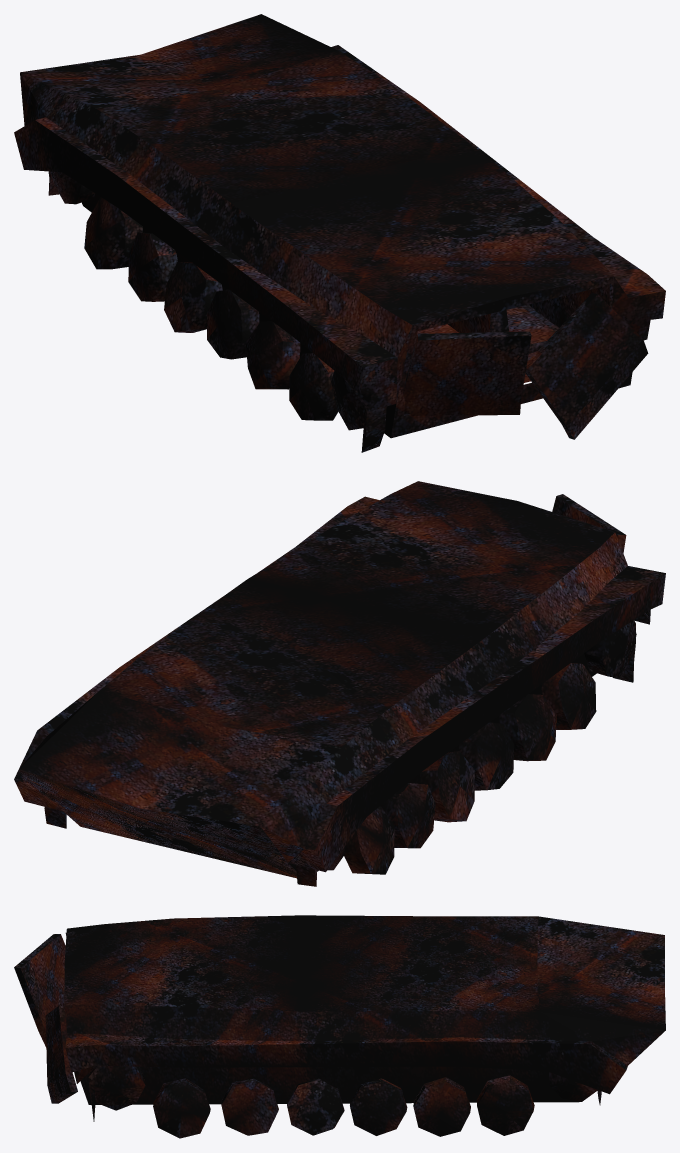
Rendered from Bmp2Wreck.glb.
The picture shows the model from 3 angles, top to bottom: view 1: azimuth 30°, elevation 25°; view 2: azimuth 150°, elevation 25°; view 3: azimuth 270°, elevation 25°; orthographic projection. The views are drawn at different scales.
Parts seen in each view (by area): view 1: BMP2WRECK; view 2: BMP2WRECK; view 3: BMP2WRECK.
Part boxes in pixels (box(x1,y1,x2,y2)): BMP2WRECK: box(14, 14, 665, 452); BMP2WRECK: box(14, 481, 665, 886); BMP2WRECK: box(14, 915, 665, 1138).
Bounding box in the file's own units: 3.17 × 1.54 × 7.35.
1 material, 1 textured.
